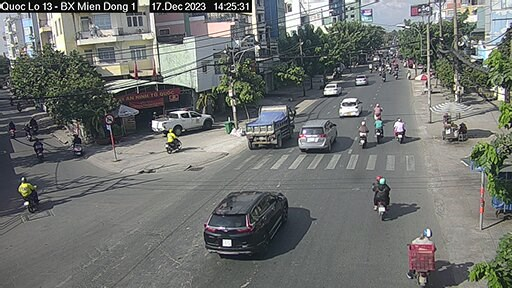car: (205, 186, 291, 258), (150, 109, 216, 135), (298, 119, 339, 152), (336, 98, 364, 118), (324, 79, 344, 98), (352, 74, 371, 89)
motorbike: (402, 231, 446, 285), (365, 176, 395, 223), (17, 175, 46, 217), (163, 130, 187, 154), (389, 119, 407, 144), (355, 121, 369, 145), (373, 119, 388, 140)
truck: (244, 105, 296, 147)
